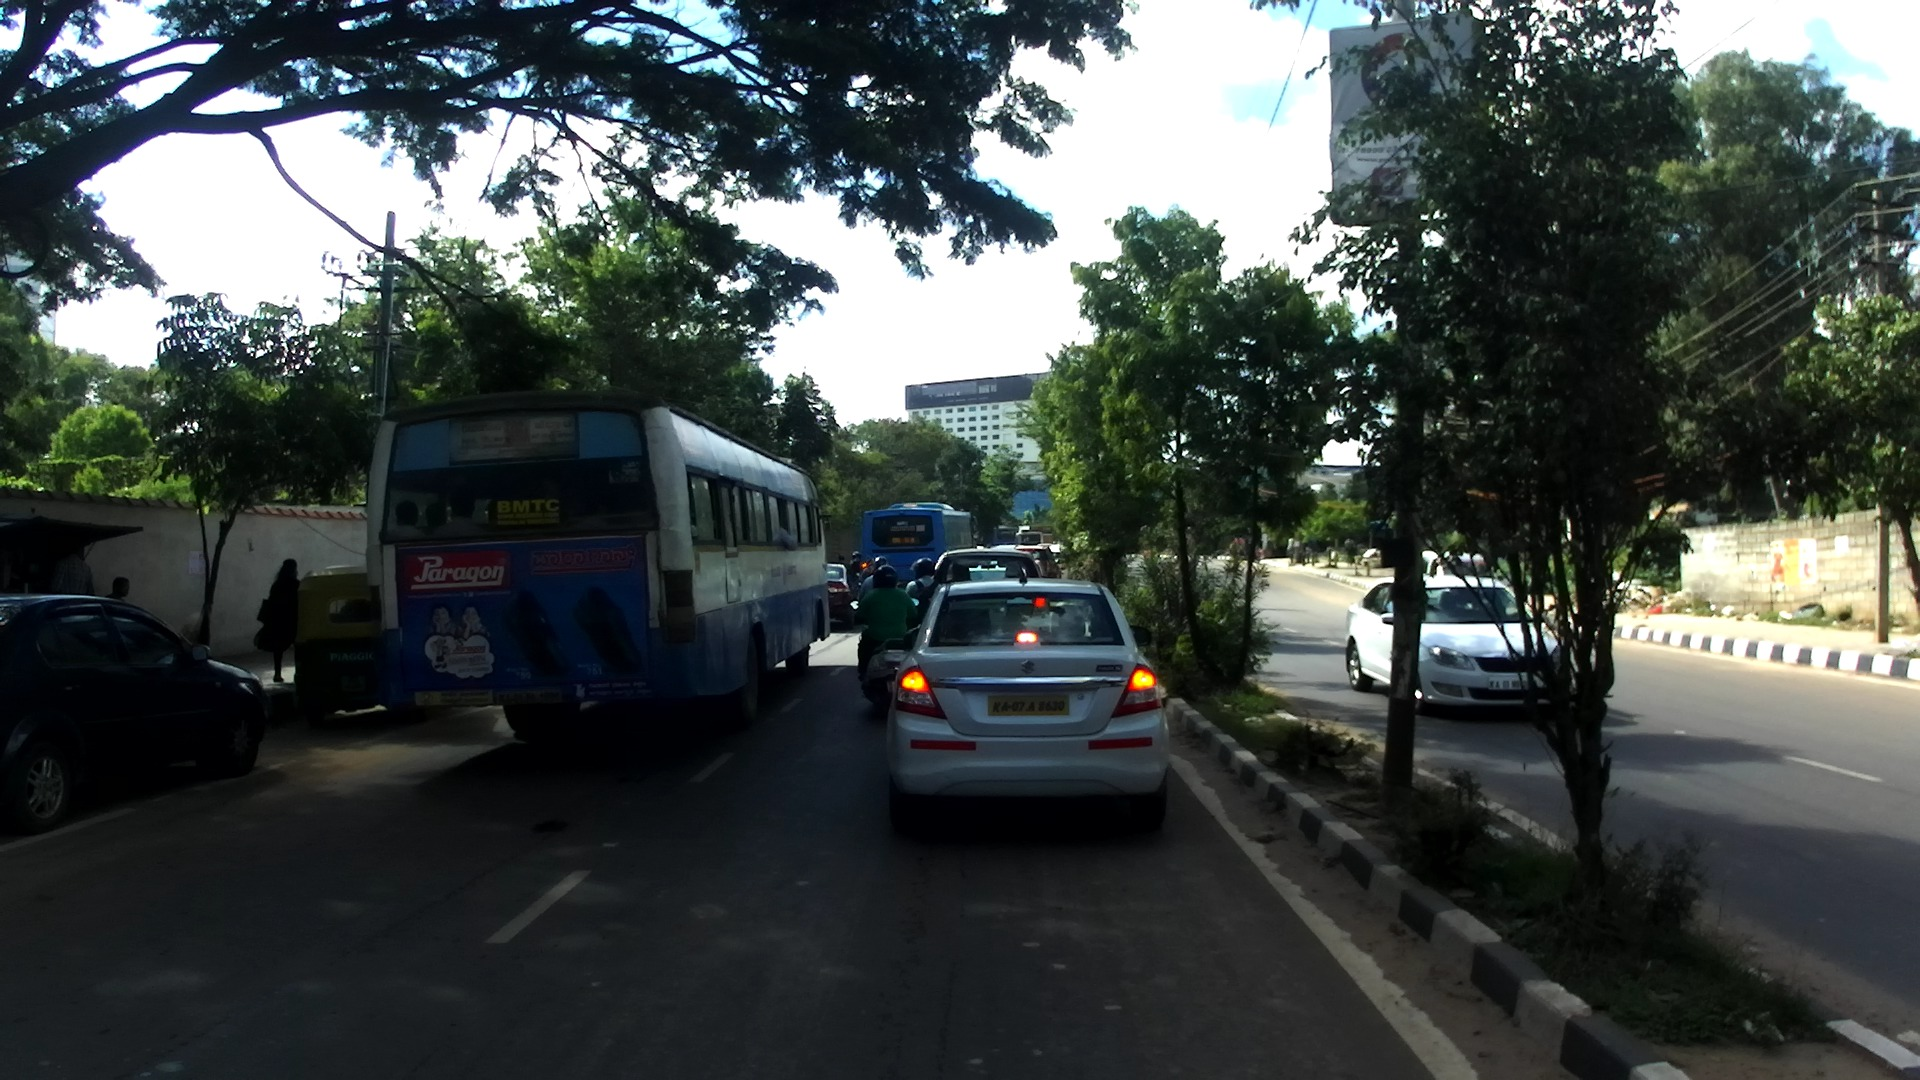autorickshaw: (293, 566, 422, 727)
bus: (364, 391, 829, 739), (860, 503, 977, 582), (990, 524, 1018, 547), (1015, 533, 1042, 549)
car: (886, 563, 1169, 833), (1, 590, 266, 837), (1344, 574, 1580, 717), (932, 548, 1041, 590), (824, 562, 866, 632), (1012, 546, 1062, 580), (1046, 545, 1064, 567), (990, 545, 1023, 552), (1036, 542, 1055, 549), (974, 544, 985, 551)
motorcycle: (849, 597, 920, 713), (851, 572, 862, 583)
person: (253, 556, 307, 684), (52, 547, 93, 597), (104, 576, 130, 606), (1285, 534, 1297, 565)
rider: (854, 564, 920, 679), (902, 558, 943, 618), (857, 556, 890, 603), (849, 550, 862, 572), (838, 555, 846, 564)
vehicle fallback: (1420, 547, 1489, 580), (1016, 526, 1053, 545), (1360, 549, 1383, 570)
